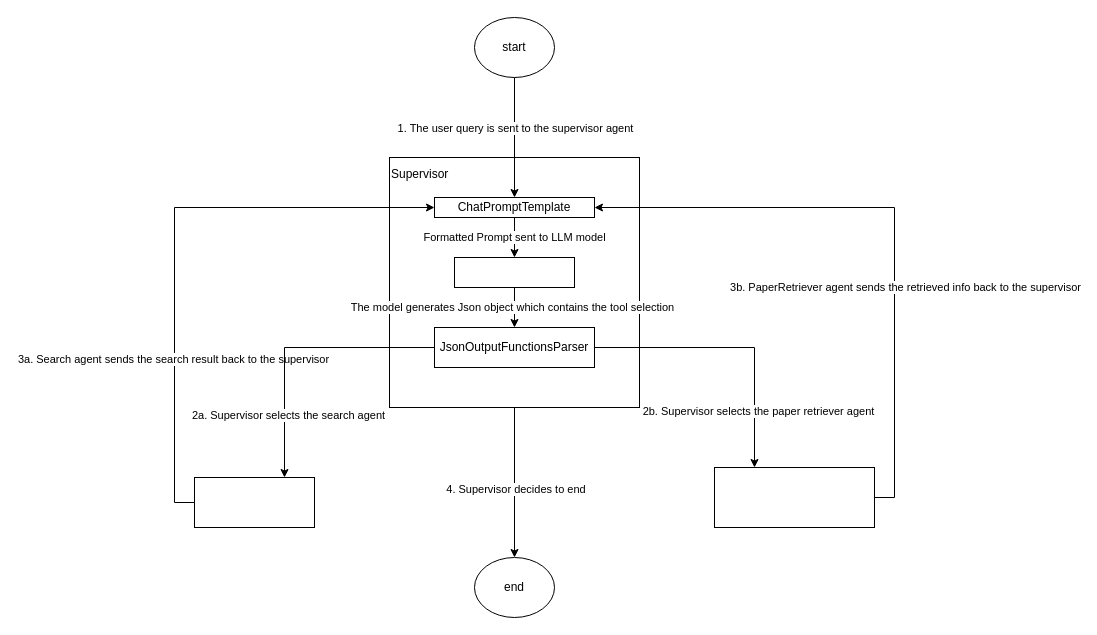
This 1097x635 diagram has some shape labels left out. The shapes that lost their labels are listed below. From the top down, each one's box as (x1, y1, x2, y2) in pixels, then its label:
(454, 256, 574, 288): ChatOpenAI
(194, 476, 314, 528): Search
(714, 466, 874, 528): PaperInformationRetriever
